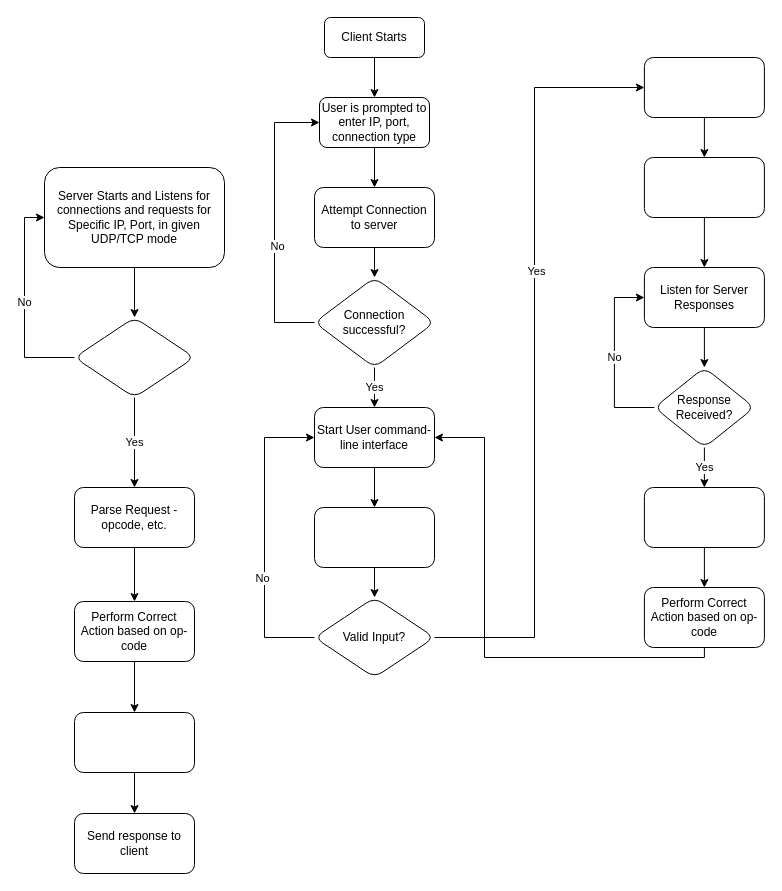
The diagram is 782 pixels wide and 891 high, and some of its shapes have lost their labels. Each missing label, with the box of its shape:
Assert user-input: (314, 506, 434, 568)
Generate Response based on result of action performed: (74, 712, 194, 772)
Parse Response: (643, 486, 764, 548)
Parse user-input and generate Request: (643, 56, 764, 118)
Request Received?: (74, 316, 194, 398)
Send Request to server: (643, 156, 764, 218)
